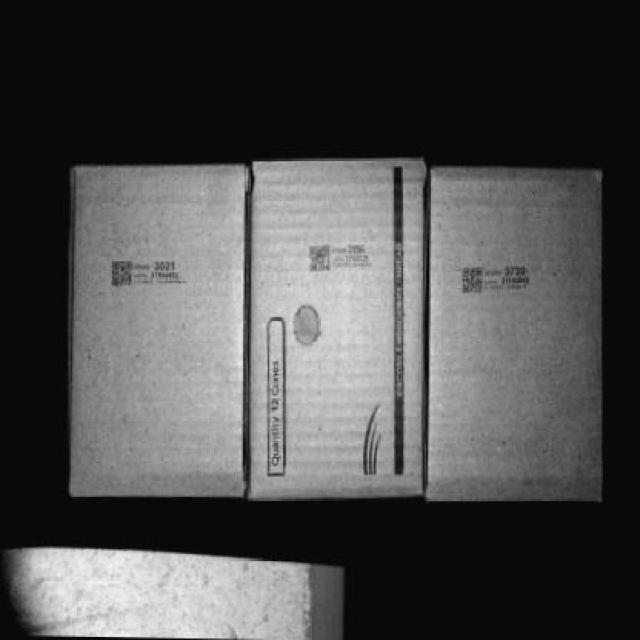cardboxes: (427, 163, 608, 508), (70, 172, 256, 505), (252, 169, 431, 500)
